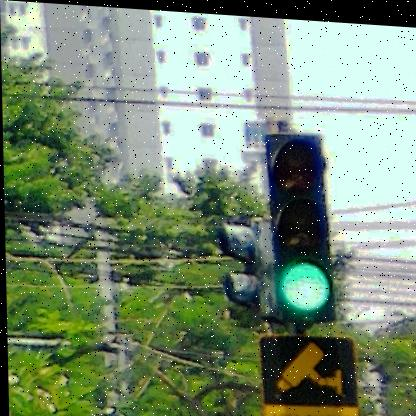Traffic Light -Green-: (265, 130, 337, 318)
